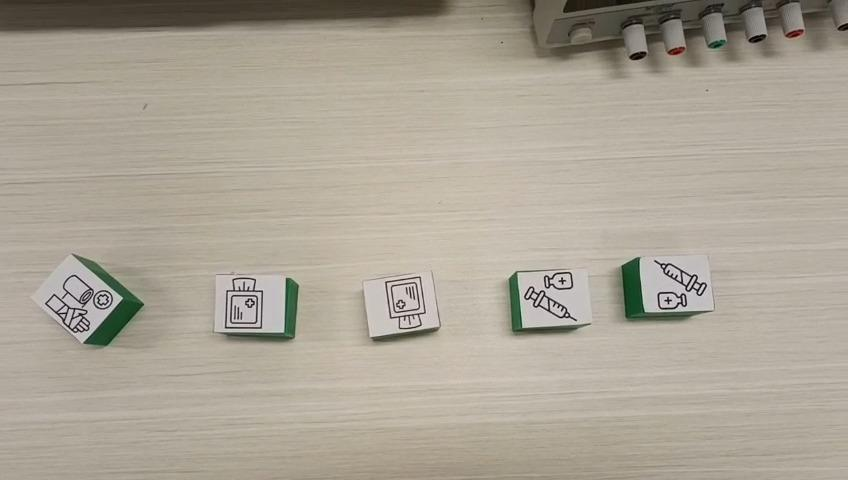Bandages: (28, 253, 144, 346)
Gauze: (213, 273, 299, 339), (361, 268, 442, 338)
antiseptic cream: (620, 251, 717, 319), (507, 266, 593, 332)
